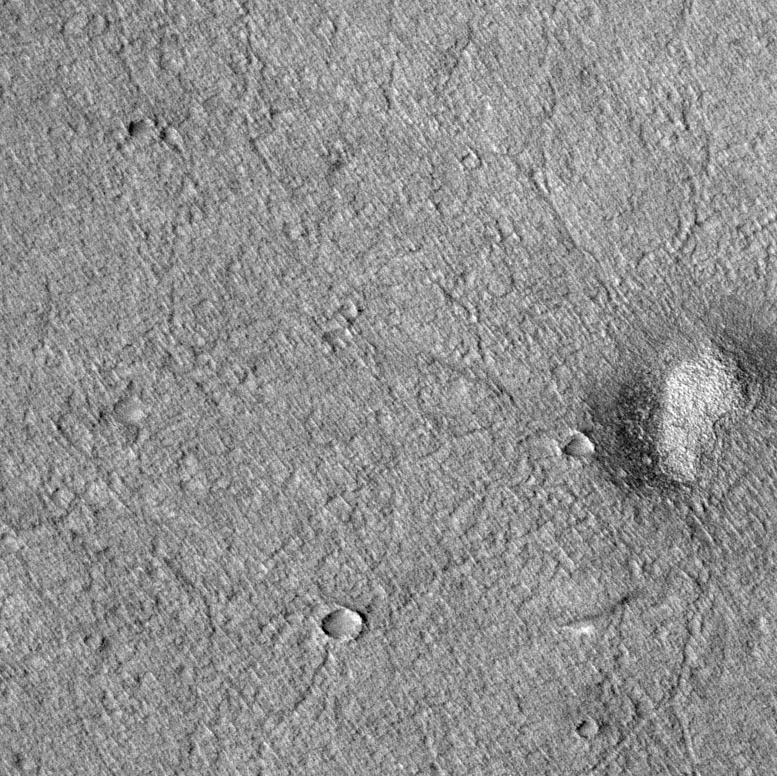dust_devil: (556, 592, 633, 637)
